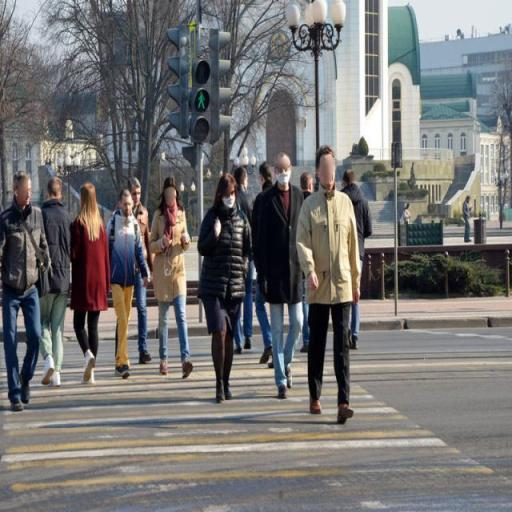person: (297, 145, 362, 422), (199, 177, 253, 404), (261, 152, 303, 397), (1, 171, 39, 412), (151, 188, 195, 381), (70, 185, 111, 385), (108, 188, 148, 377), (254, 163, 287, 369), (40, 179, 73, 385), (128, 176, 156, 365), (343, 169, 372, 351), (238, 167, 259, 356), (463, 196, 473, 243), (404, 204, 412, 225)
